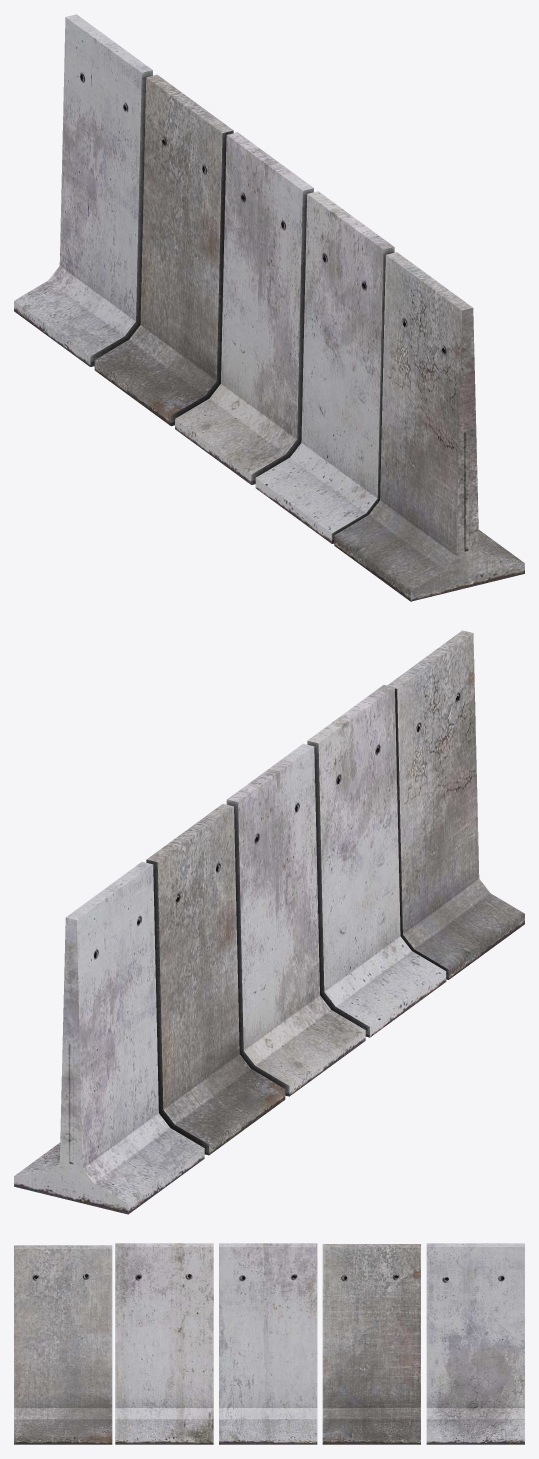
File: wall.glb
The picture shows the model from 3 angles, top to bottom: view 1: azimuth 30°, elevation 25°; view 2: azimuth 150°, elevation 25°; view 3: azimuth 270°, elevation 25°; orthographic projection. The views are drawn at different scales.
Visible parts, largest first — view 1: A_Concrete_T_A_Concrete_0; view 2: A_Concrete_T_A_Concrete_0; view 3: A_Concrete_T_A_Concrete_0.
Boxes of the visible parts, left/top/right/bottom form: A_Concrete_T_A_Concrete_0: left=14, top=14, right=524, bottom=601; A_Concrete_T_A_Concrete_0: left=14, top=630, right=524, bottom=1214; A_Concrete_T_A_Concrete_0: left=14, top=1243, right=524, bottom=1444.
Size of the model in its own units: 2 by 4.71 by 12.02.
Materials: 1 (1 with a texture image).
